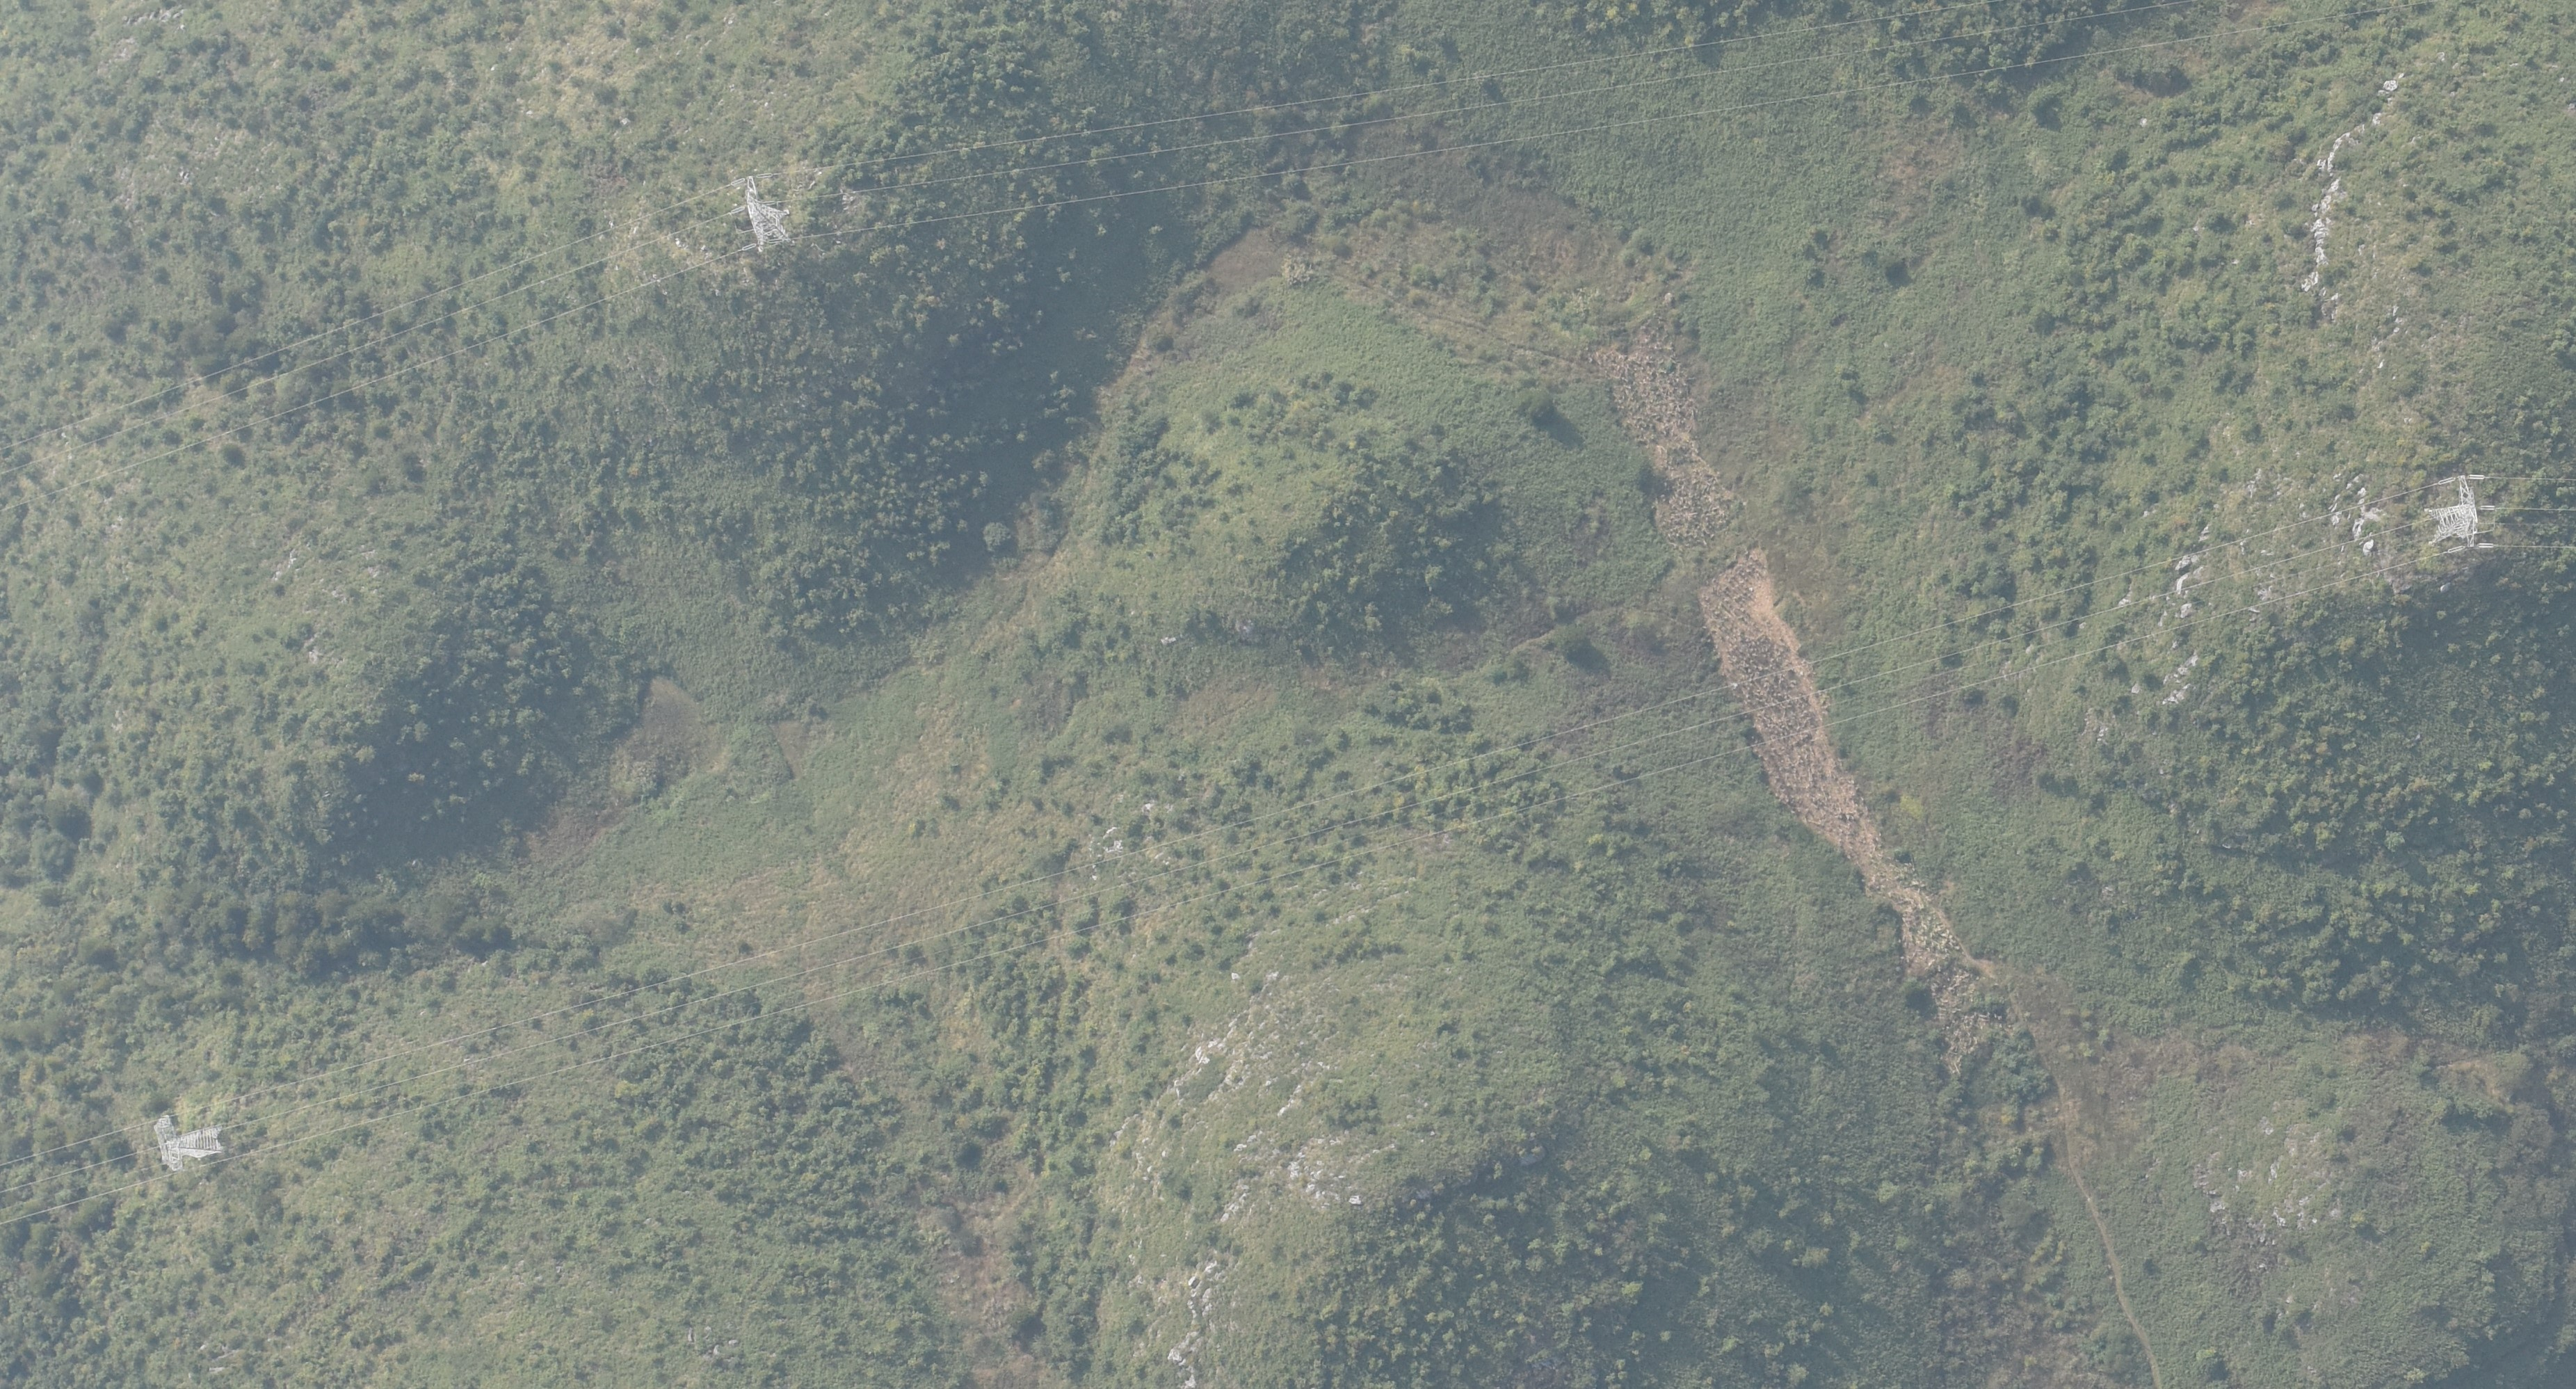cable-tower: (2424, 475, 2494, 552), (732, 172, 795, 250), (152, 1114, 223, 1171)
